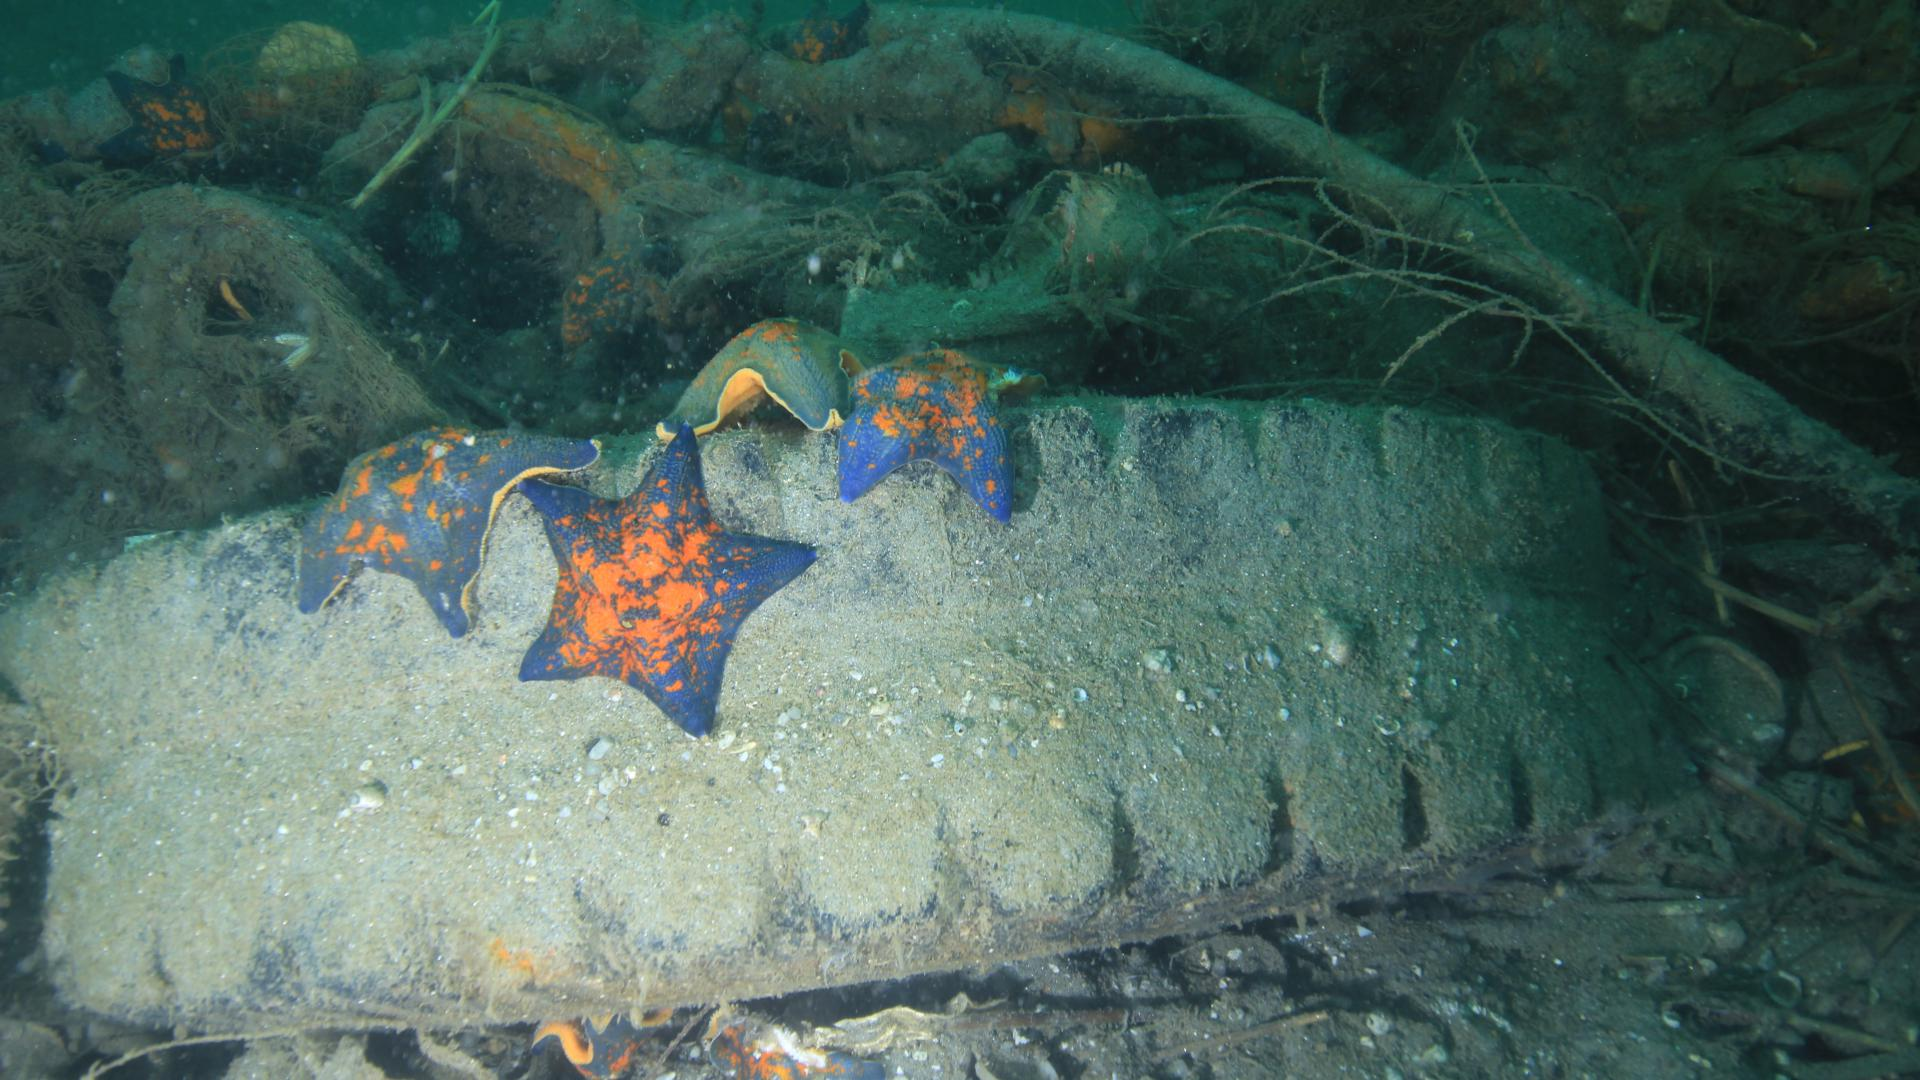tire: (0, 400, 1687, 1026)
